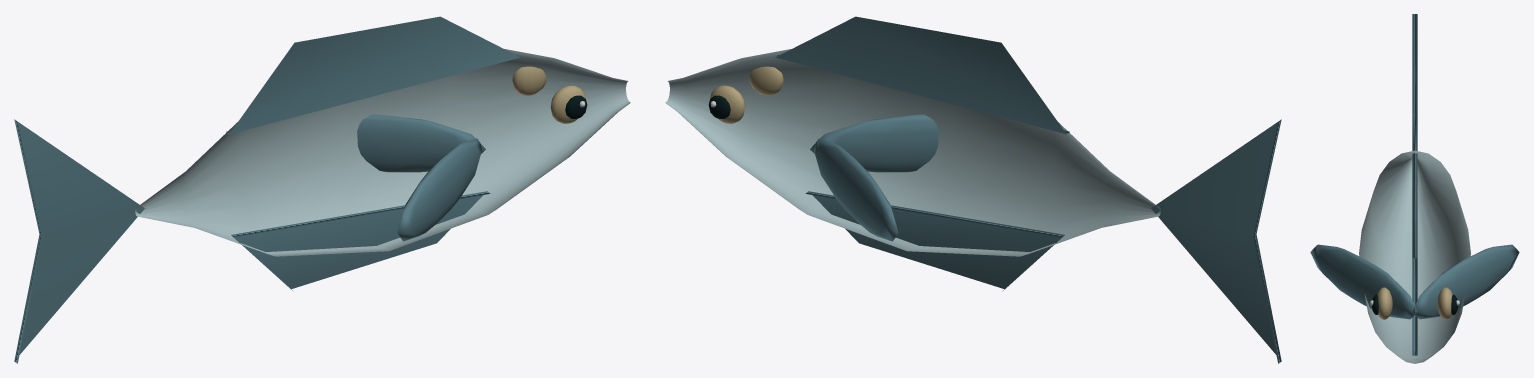
Rendered from fish-silver.glb.
3 views of the same model, side by side, from view 1: azimuth 30°, elevation 25°; view 2: azimuth 150°, elevation 25°; view 3: azimuth 270°, elevation 25° (orthographic). The views are drawn at different scales.
Parts seen in each view (by area): view 1: Original authored part; view 2: Original authored part; view 3: Original authored part.
Boxes of the visible parts, x1,y1,x2,y2 form: Original authored part: [14, 16, 630, 363]; Original authored part: [665, 16, 1281, 363]; Original authored part: [1310, 14, 1519, 363].
Size of the model in its own units: 1.22 by 0.482 by 0.4484.
